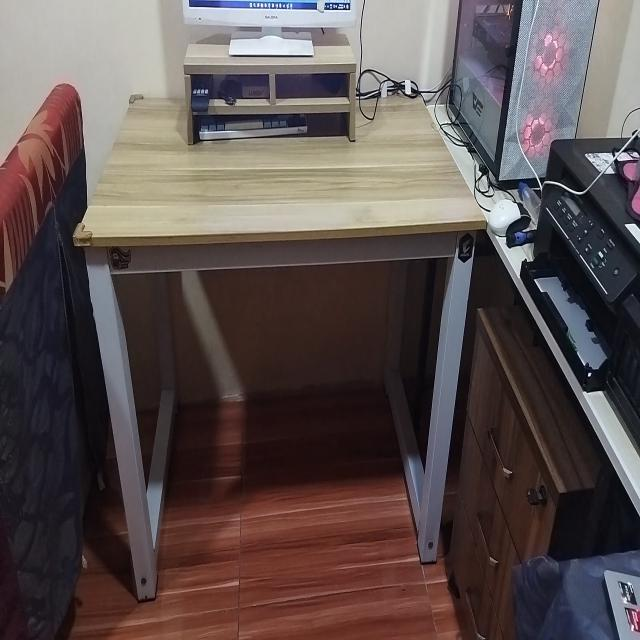table: (70, 79, 488, 598)
